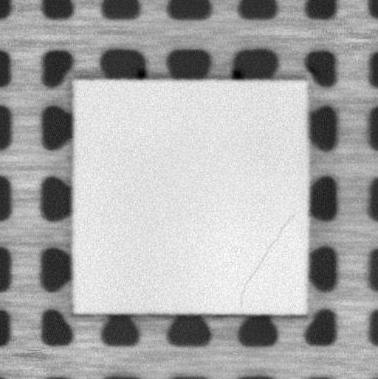DIE_CRACK: (234, 212, 298, 308)
